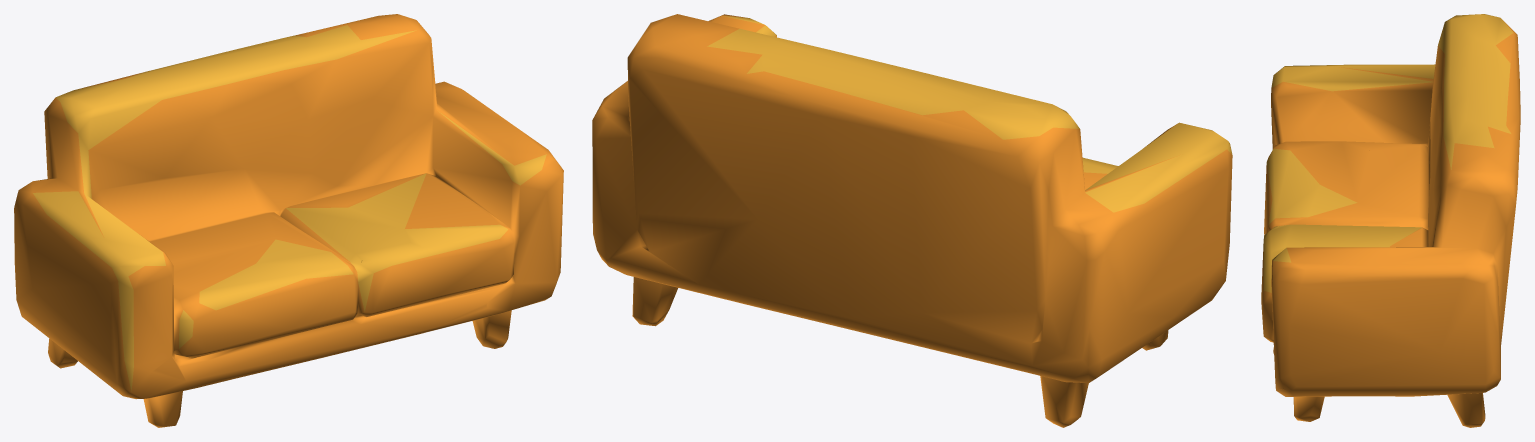
File: SM_prop_sofa_2seat.glb
3 renders of one model, left to right at view 1: azimuth 30°, elevation 25°; view 2: azimuth 150°, elevation 25°; view 3: azimuth 270°, elevation 25°, orthographic. The views are drawn at different scales.
Parts seen in each view (by area): view 1: SM_prop_sofa_2seat; view 2: SM_prop_sofa_2seat; view 3: SM_prop_sofa_2seat.
Boxes of the visible parts, x1,y1,x2,y2 form: SM_prop_sofa_2seat: (14,14,563,427); SM_prop_sofa_2seat: (592,14,1232,427); SM_prop_sofa_2seat: (1261,14,1520,427).
Bounding box in the file's own units: 1.34 × 0.75 × 0.7024.
1 material, 1 textured.
